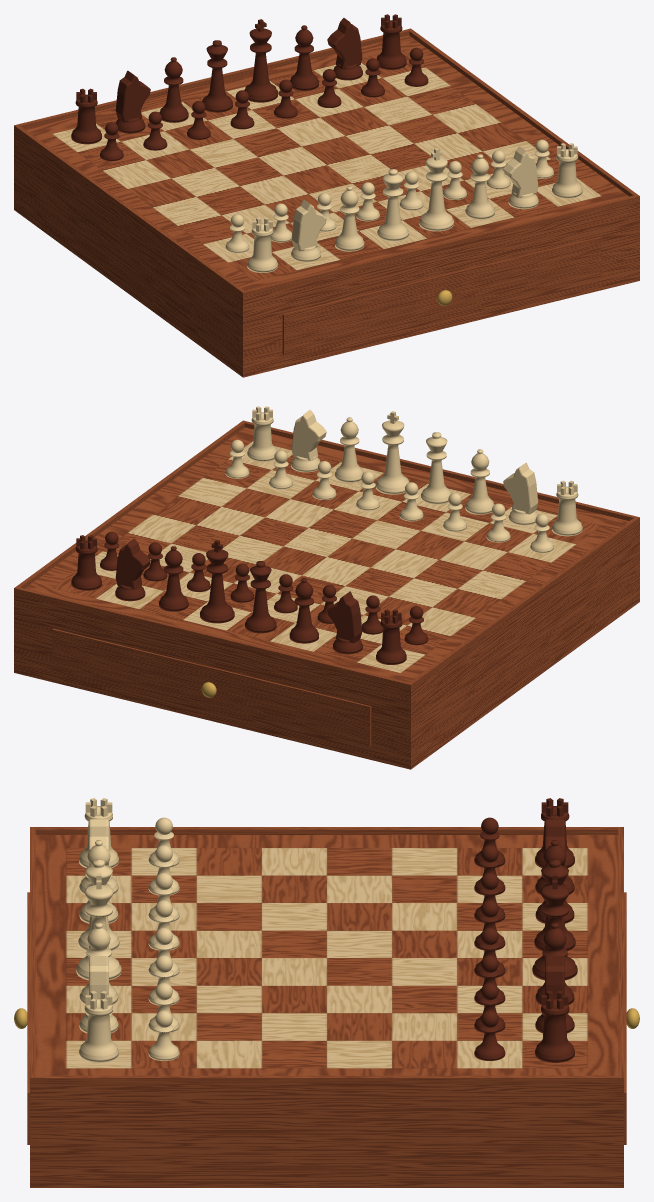
File: philidor-3d-erable-magnetique-31-v2.glb
3 views of the same model, one above another, from view 1: azimuth 30°, elevation 25°; view 2: azimuth 150°, elevation 25°; view 3: azimuth 270°, elevation 25° (orthographic). The views are drawn at different scales.
Visible parts, largest first — view 1: erable-magnetique-31; view 2: erable-magnetique-31; view 3: erable-magnetique-31.
Part boxes in pixels (bbox=[...]): erable-magnetique-31: bbox=[14, 14, 639, 377]; erable-magnetique-31: bbox=[14, 406, 639, 769]; erable-magnetique-31: bbox=[14, 798, 639, 1187].
Size of what is drawn, in the model's own units: 0.31 by 0.116 by 0.3267.
Materials: 6 (3 with a texture image).
